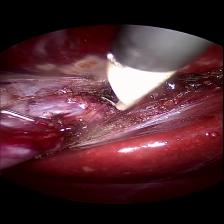Hook: (92, 58, 165, 114)
